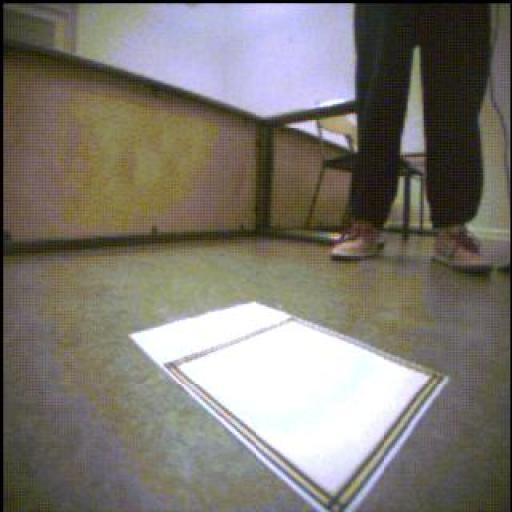Pad: (132, 303, 449, 512)
